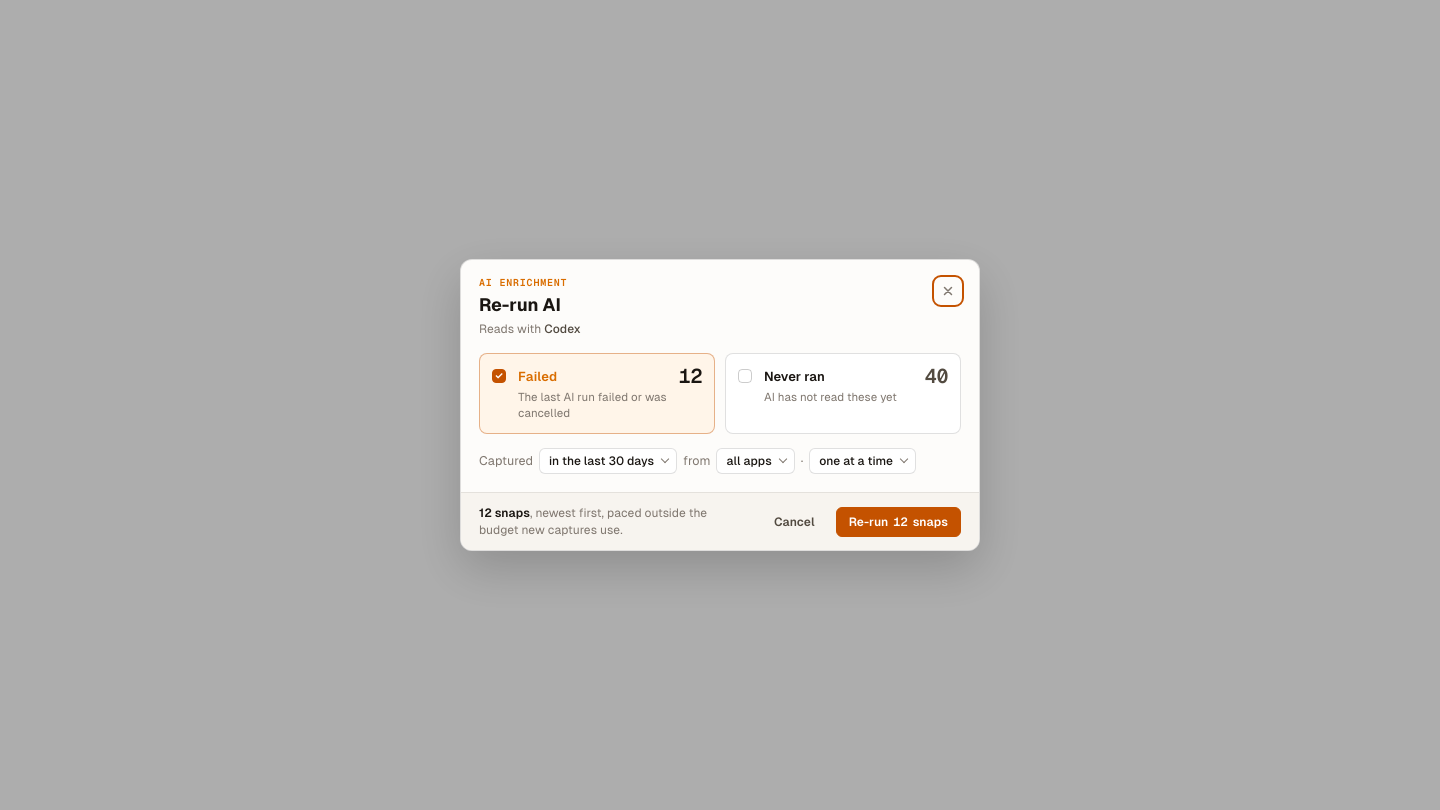
Scenario: EnrichmentRepairDialog — set up › Escape closes the open popover, not the dialog
Click the button "one at a time" at {"x": 863, "y": 462}, box left=809, top=448, right=916, bottom=474
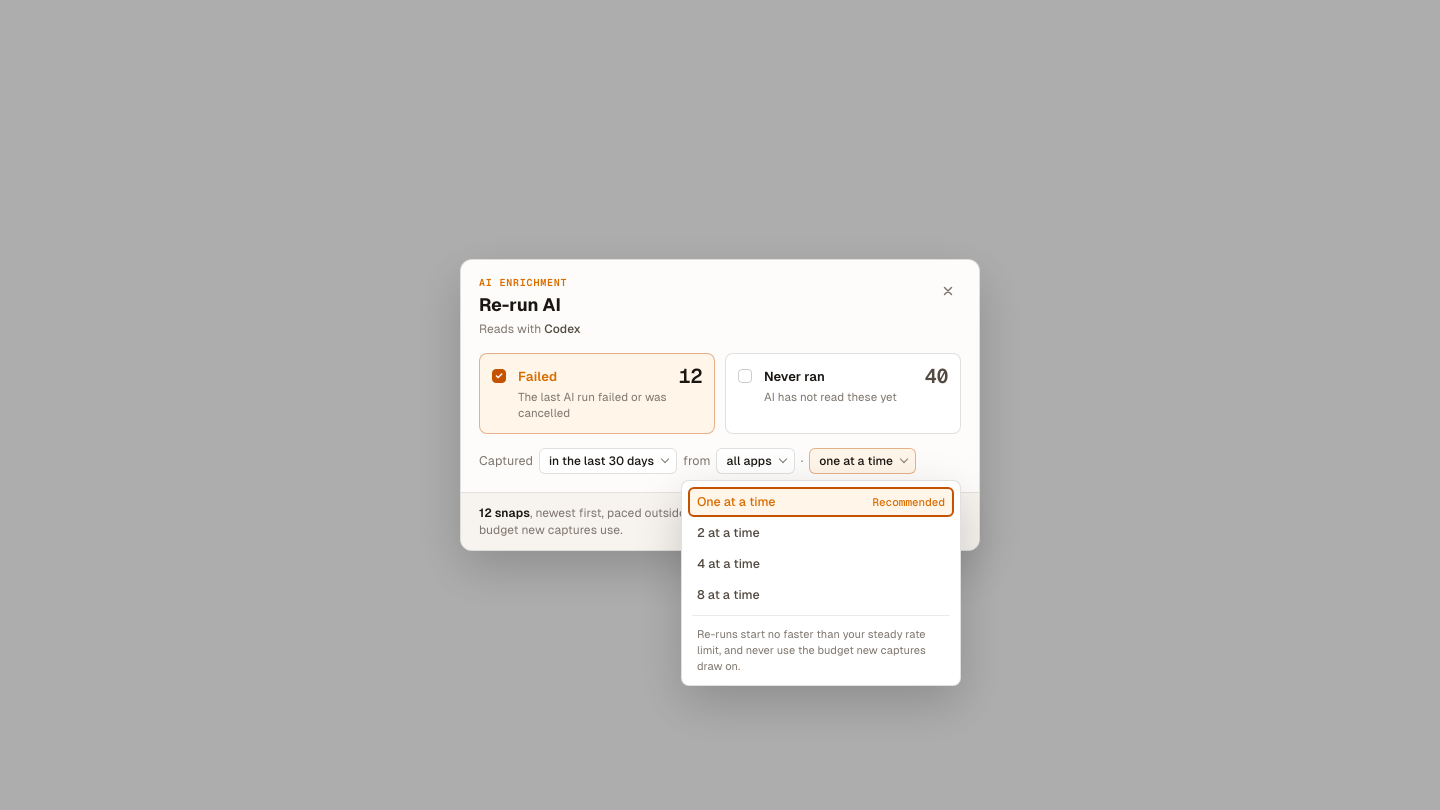
Check: the dialog is shown, box left=681, top=480, right=961, bottom=686
Press Escape in the radio button labelled "One at a time Recommended", box left=688, top=488, right=954, bottom=518
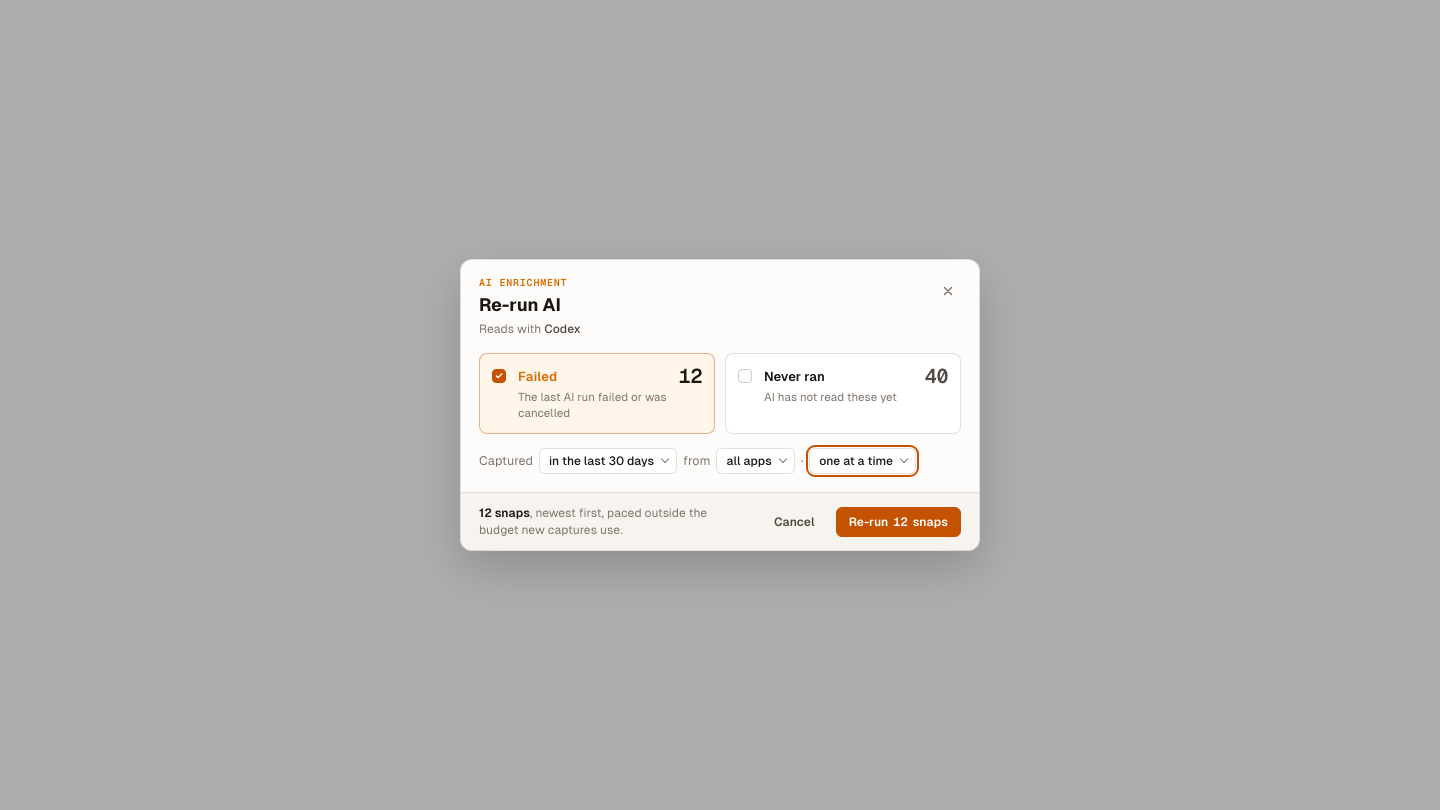
Check: the dialog is gone
